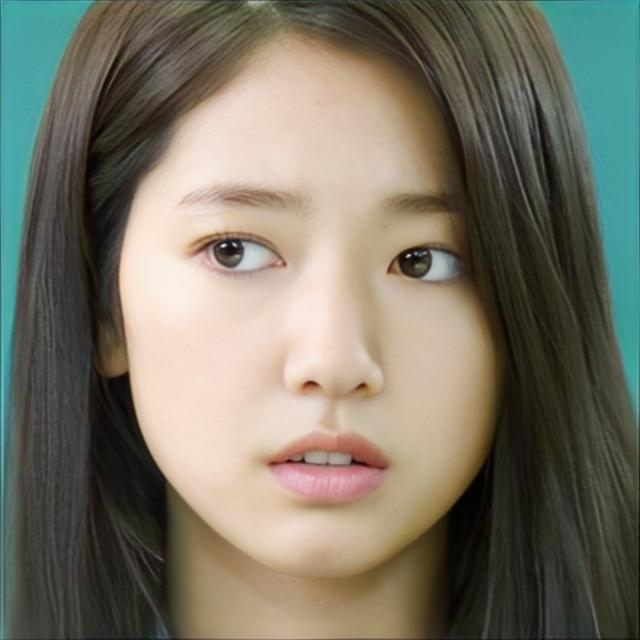fear: (116, 31, 514, 582)
